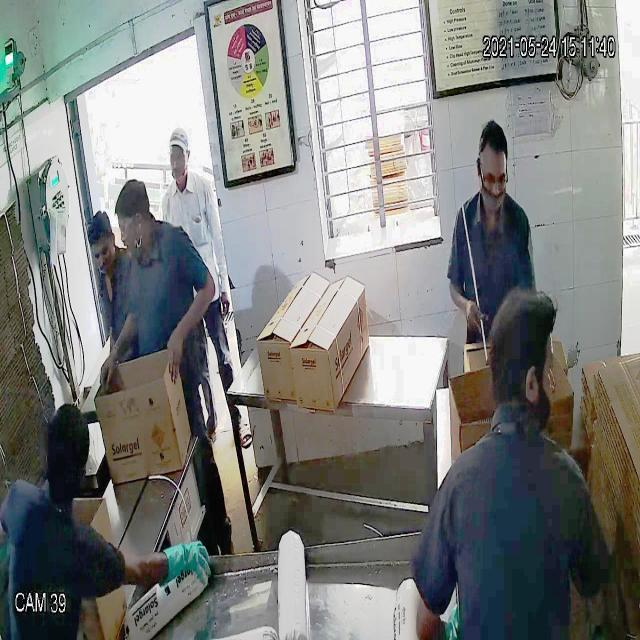glasses: (476, 155, 509, 193)
no-glass: (167, 150, 188, 167)
